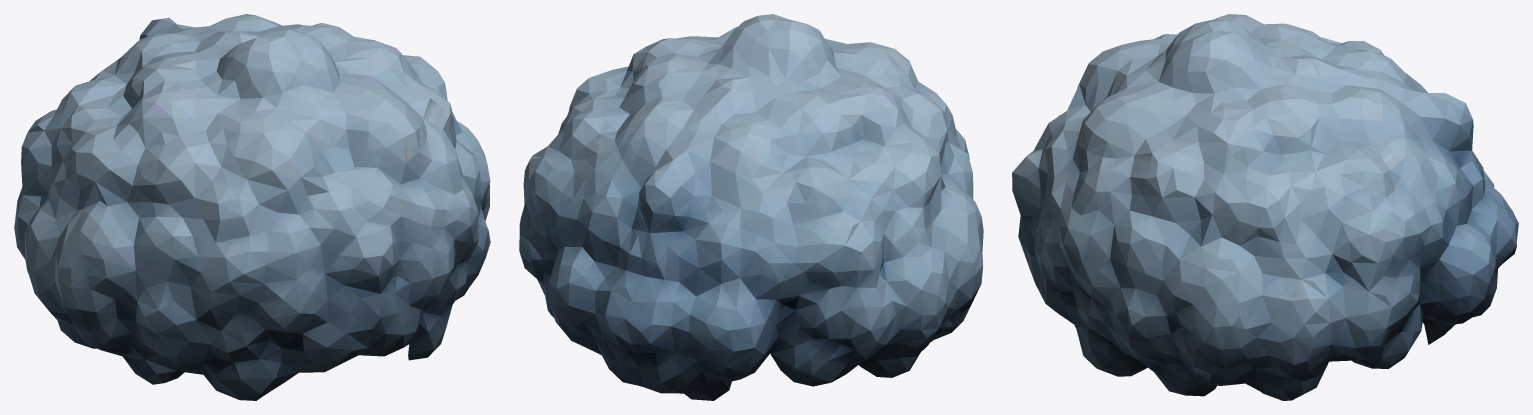
The model's file is hairstyle_062.glb.
3 views of the same model, side by side, from view 1: azimuth 30°, elevation 25°; view 2: azimuth 150°, elevation 25°; view 3: azimuth 270°, elevation 25° (orthographic). The views are drawn at different scales.
Parts seen in each view (by area): view 1: geometry_0_062; view 2: geometry_0_062; view 3: geometry_0_062.
Boxes of the visible parts, x1,y1,x2,y2 form: geometry_0_062: (14,14,490,400); geometry_0_062: (519,14,983,400); geometry_0_062: (1012,14,1518,400).
Size of the model in its own units: 1.03 by 0.7112 by 1.07.
Materials: 1 (1 with a texture image).
